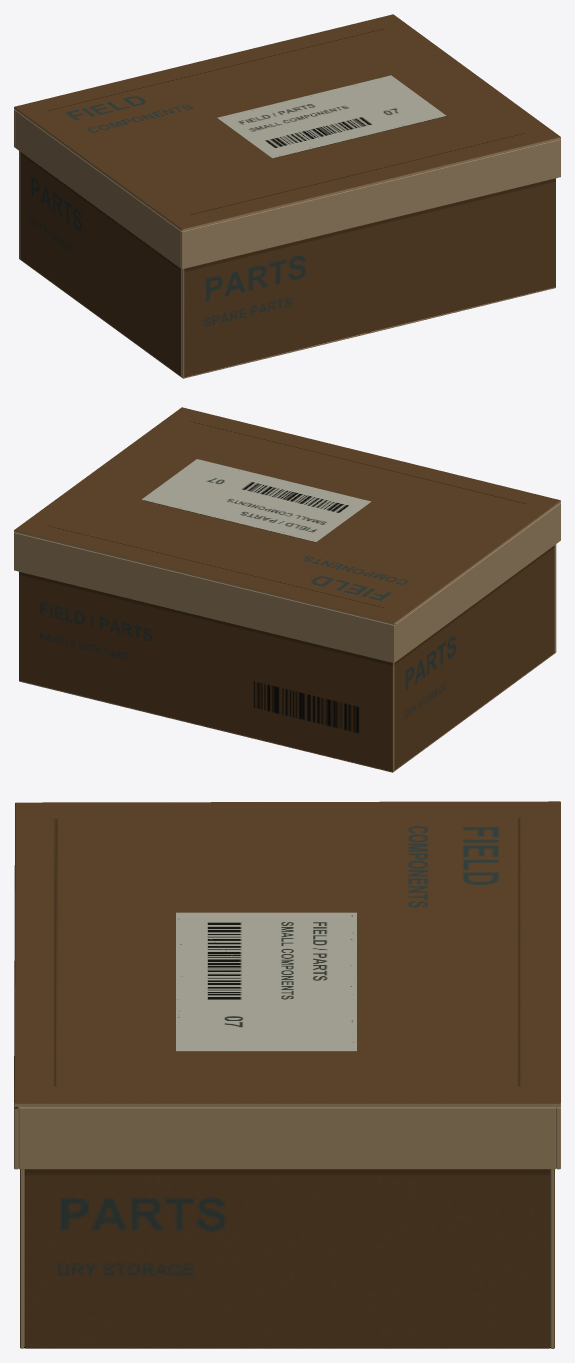
File: ComponentBox_LOD0.fbx
3 views of the same model, one above another, from view 1: azimuth 30°, elevation 25°; view 2: azimuth 150°, elevation 25°; view 3: azimuth 270°, elevation 25° (orthographic). The views are drawn at different scales.
Visible parts, largest first — view 1: Lid_LOD0, Body_LOD0; view 2: Lid_LOD0, Body_LOD0; view 3: Lid_LOD0, Body_LOD0.
Boxes of the visible parts, x1,y1,x2,y2 form: Lid_LOD0: [14, 14, 560, 269]; Body_LOD0: [19, 151, 555, 378]; Lid_LOD0: [14, 407, 560, 662]; Body_LOD0: [19, 544, 556, 772]; Lid_LOD0: [14, 801, 560, 1169]; Body_LOD0: [20, 1169, 554, 1348].
Size of the model in its own units: 0.17 by 0.0651 by 0.13.
